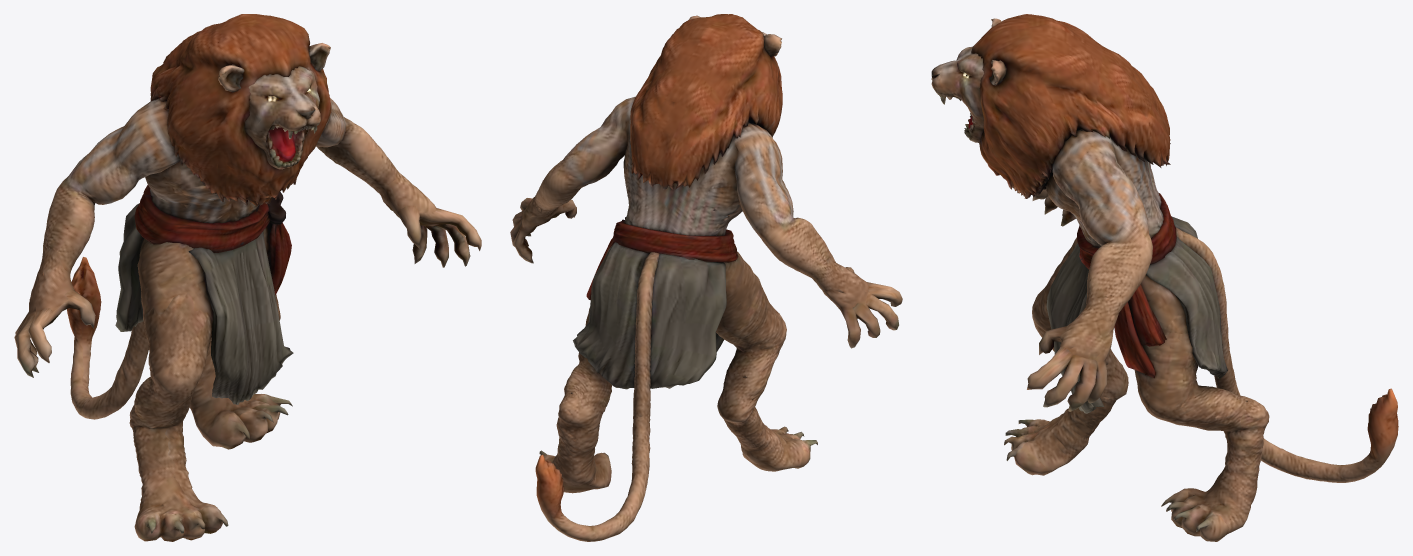
Rendered from MZ4250 - Zimwi.glb.
3 renders of one model, left to right at view 1: azimuth 30°, elevation 25°; view 2: azimuth 150°, elevation 25°; view 3: azimuth 270°, elevation 25°, orthographic. The views are drawn at different scales.
Visible parts, largest first — view 1: Body.002; view 2: Body.002; view 3: Body.002.
Part boxes in pixels (x1,y1,x2,y2): Body.002: (14,14,481,541); Body.002: (510,14,902,541); Body.002: (931,14,1398,541).
Size of the model in its own units: 65.92 by 69.88 by 62.71.
Materials: 1 (1 with a texture image).
